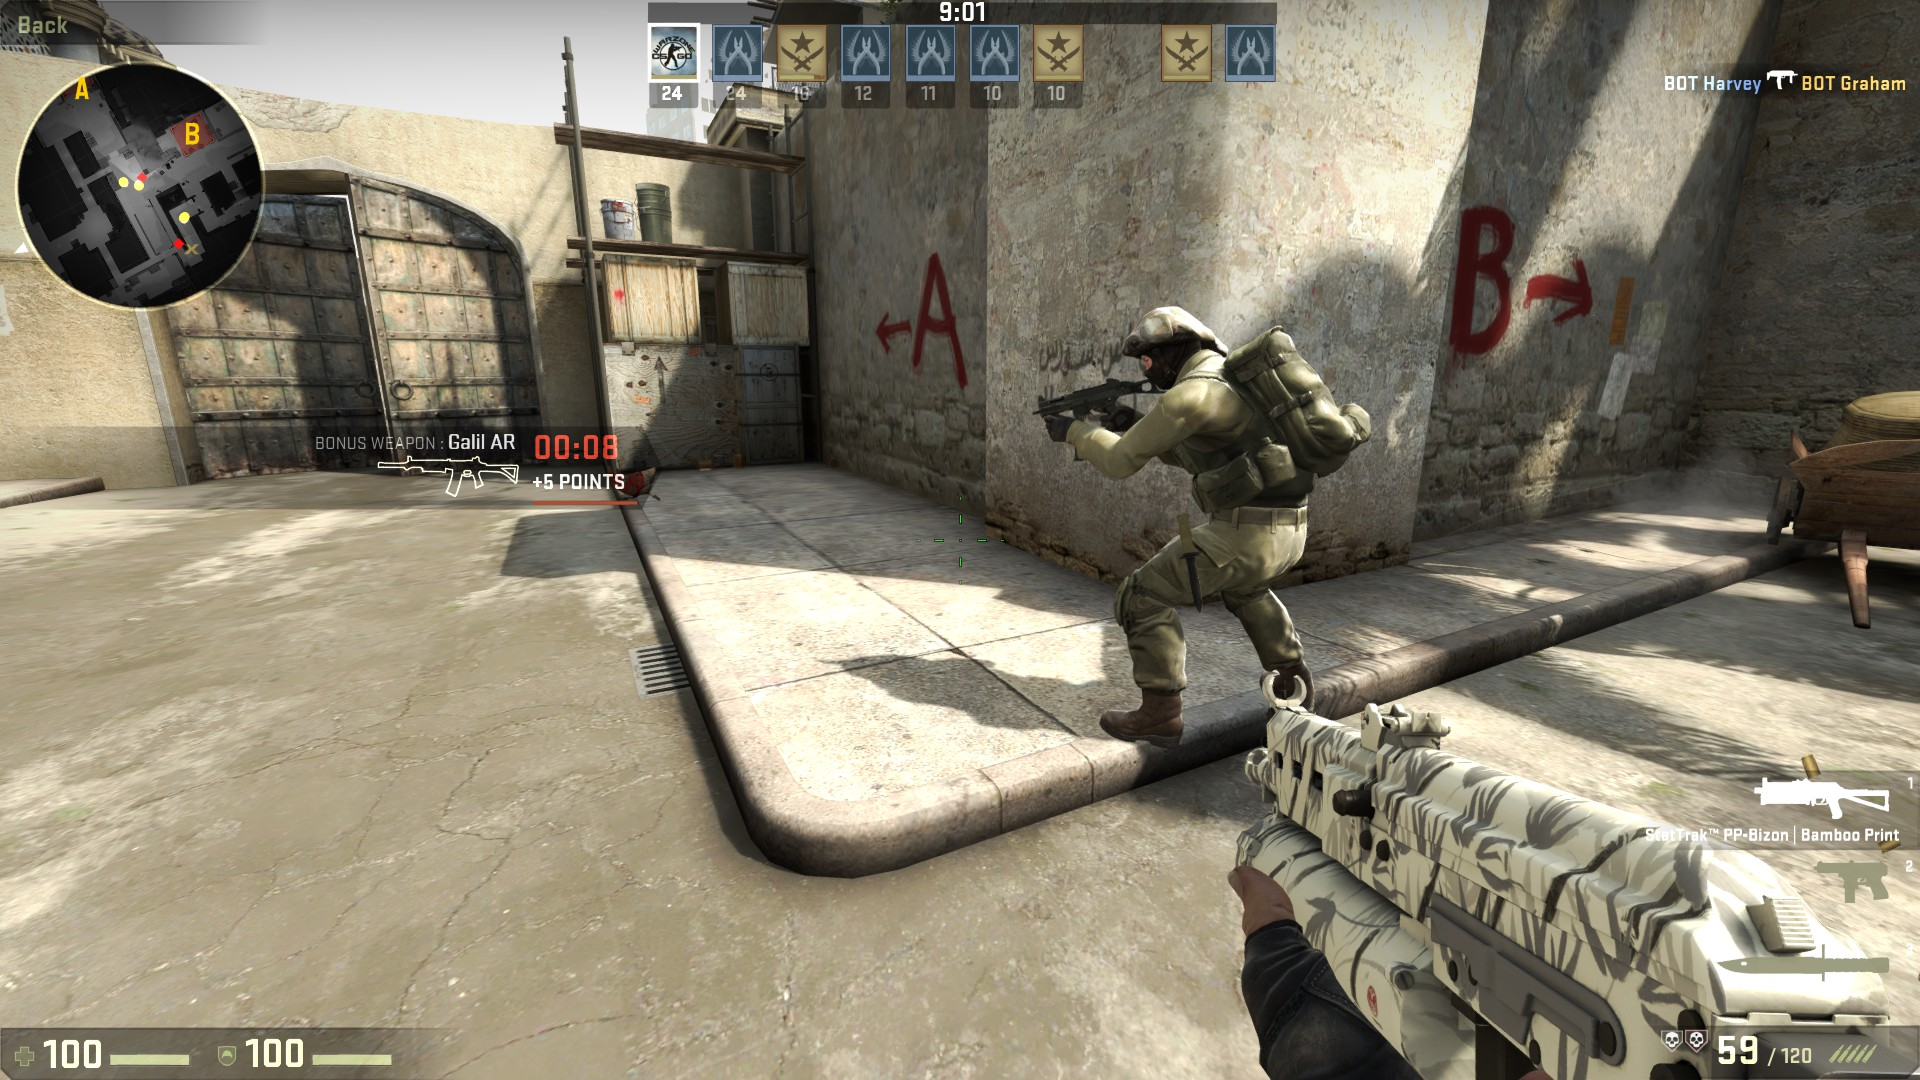c: (1091, 299, 1352, 746)
ch: (1124, 303, 1218, 392)
